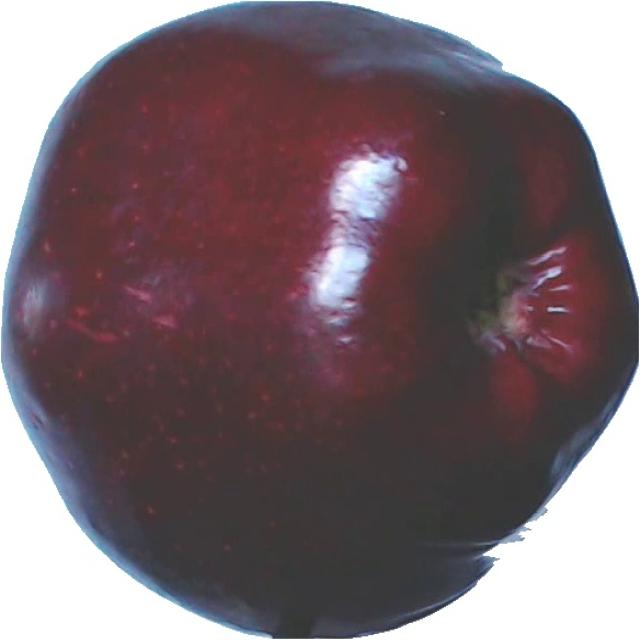Scartlet Spur Elma: (1, 0, 638, 638)
